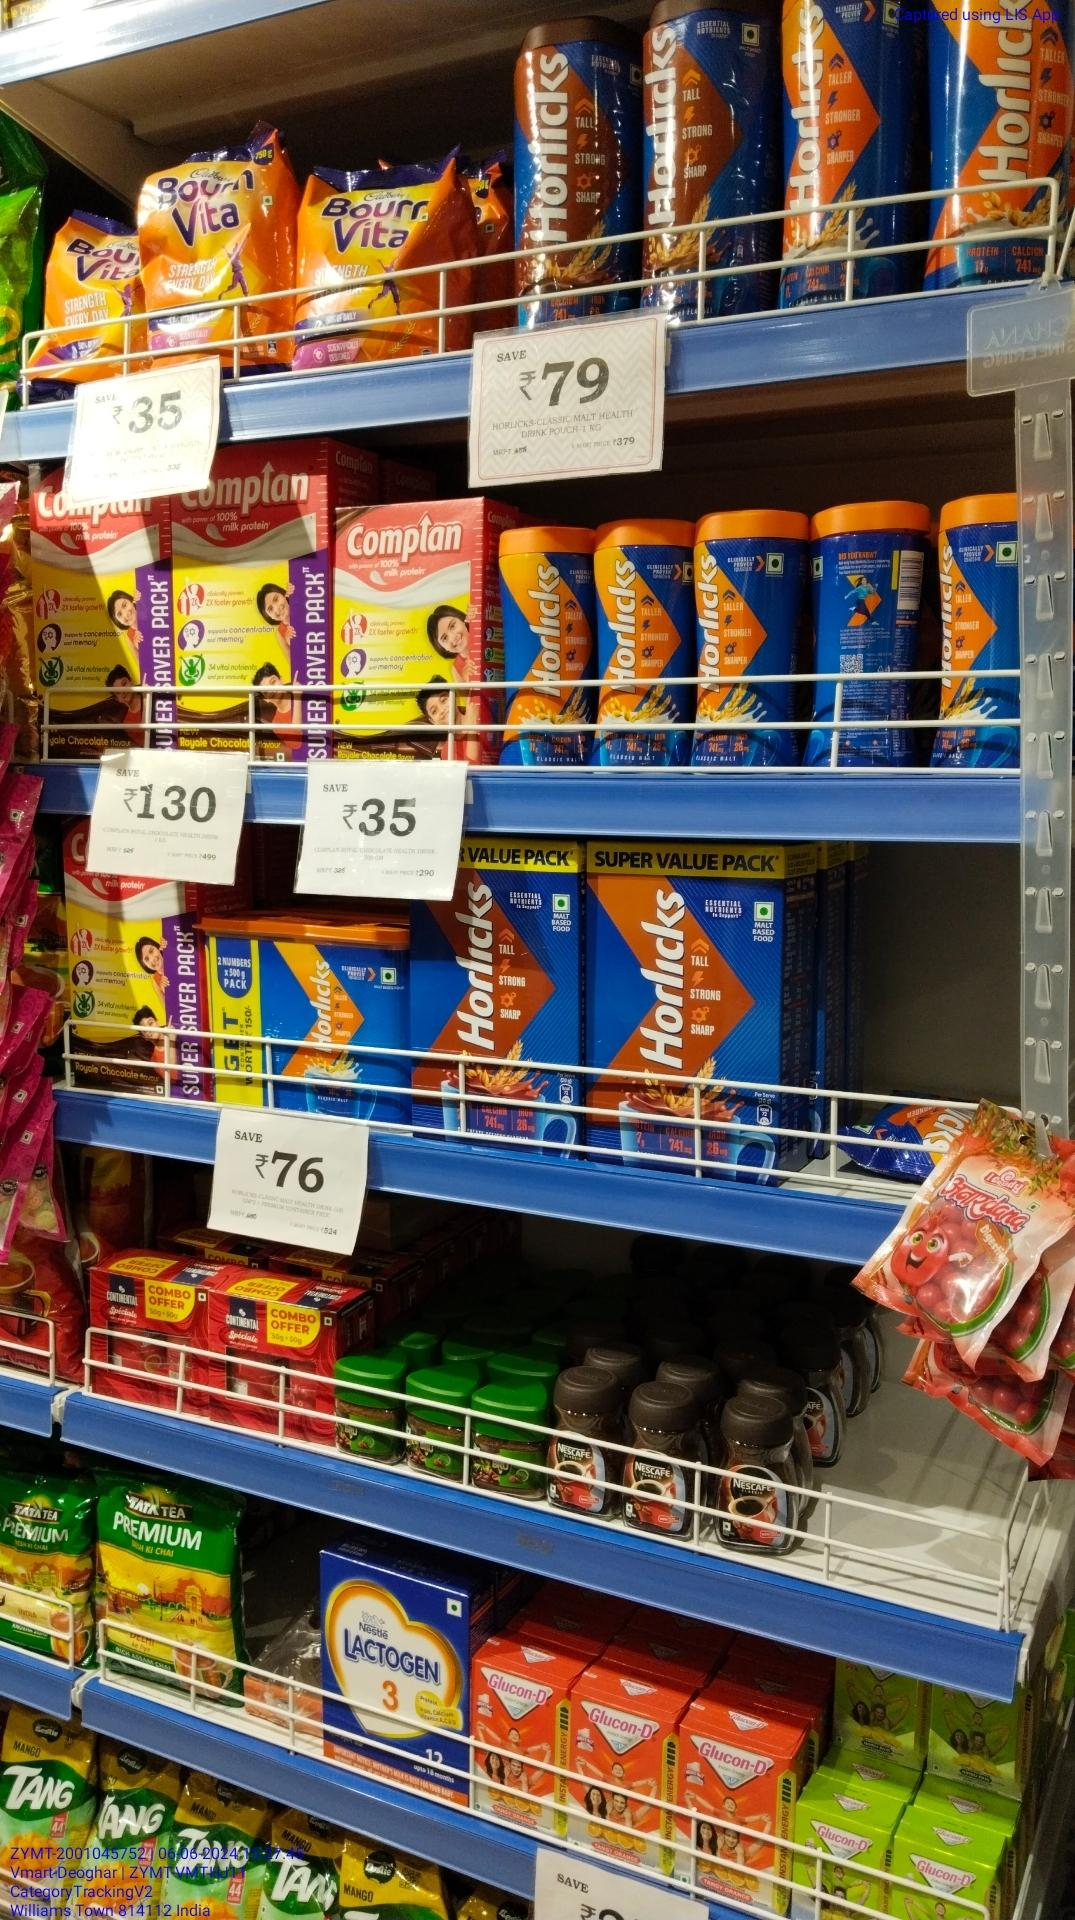BOURN_VITA_500_G_POUCH: (293, 170, 459, 360)
BOURN_VITA_750_G_POUCH: (144, 135, 284, 368)
HORLICK_CHOCOLATE_1_KG_JAR: (507, 15, 638, 319), (645, 5, 773, 310)
HORLICK_CHOCOLATE_1_KG_PACK: (586, 835, 778, 1176), (409, 841, 578, 1150)
HORLICK_CLASSIC_MALT_500_G_JAR: (694, 513, 803, 765), (934, 491, 1022, 766), (596, 521, 690, 762), (499, 524, 591, 767)
HORLICK_MALT_1_KG_CONTAINER: (198, 916, 406, 1118)
